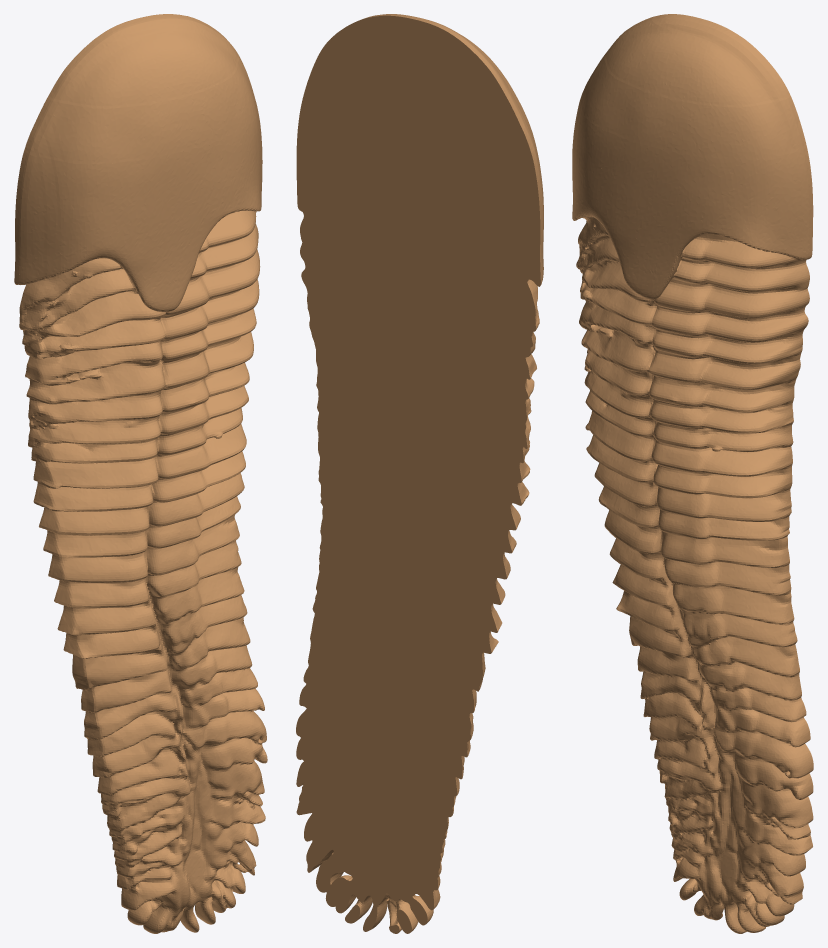
File: spriggina-floundersi.glb
3 renders of one model, left to right at view 1: azimuth 30°, elevation 25°; view 2: azimuth 150°, elevation 25°; view 3: azimuth 330°, elevation 25°, orthographic. The views are drawn at different scales.
Visible parts, largest first — view 1: SprigginaFloundersi; view 2: SprigginaFloundersi; view 3: SprigginaFloundersi.
Boxes of the visible parts, x1,y1,x2,y2 form: SprigginaFloundersi: [14, 14, 267, 933]; SprigginaFloundersi: [296, 14, 543, 933]; SprigginaFloundersi: [572, 14, 813, 933].
Bounding box in the file's own units: 22.17 × 80 × 6.53.
